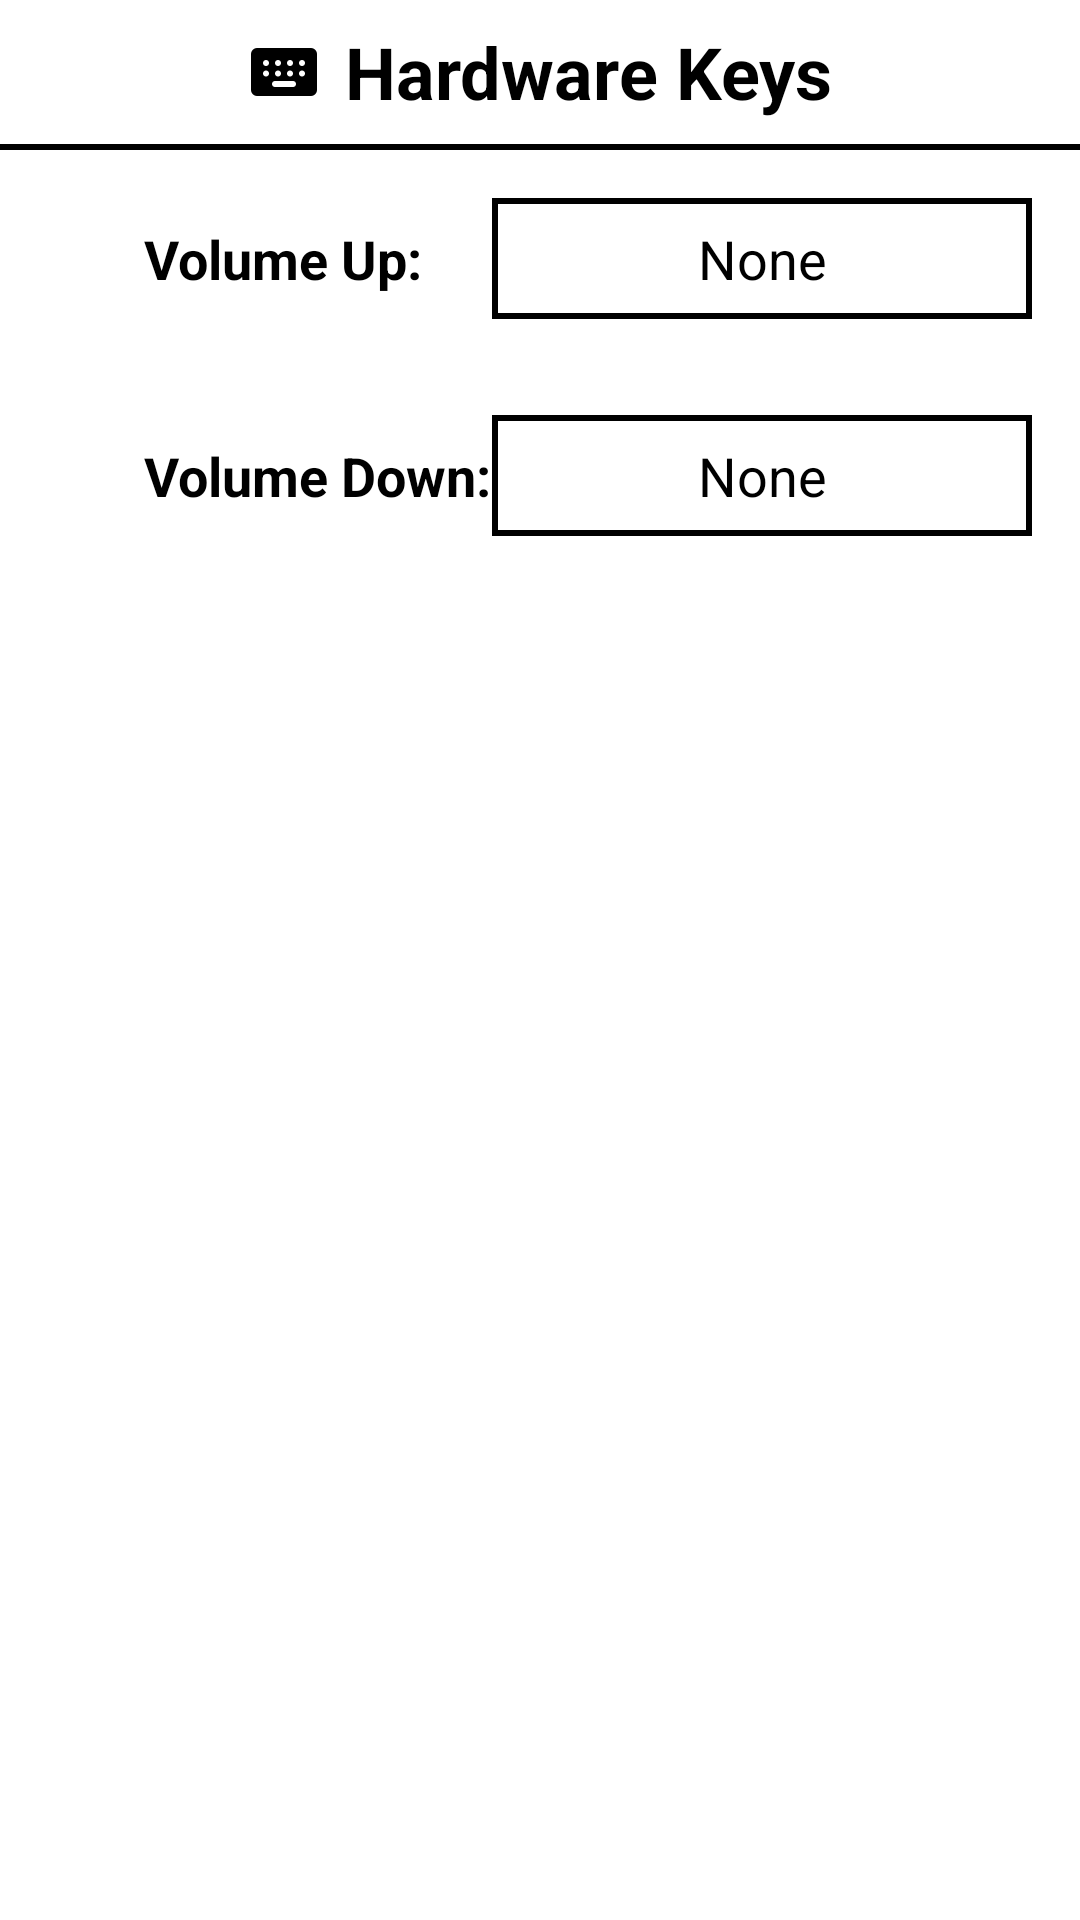

Named icons in this screenshot (1080px x 1920px) and their bounding boxes, (x1, y1, x2, y2):
keyboard: (251, 48, 317, 96)
